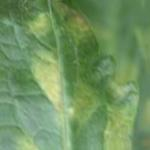Tomato mold leaf: (0, 0, 146, 150)
